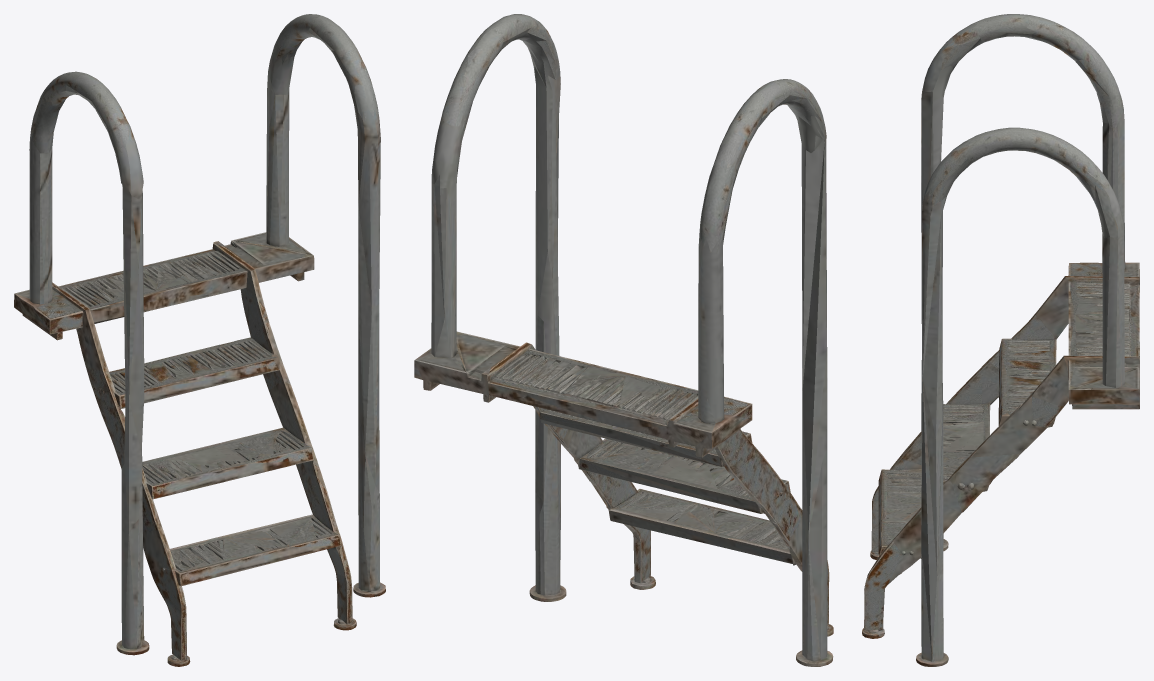
The model's file is scaletta_banchina.glb.
The picture shows the model from 3 angles, left to right: view 1: azimuth 30°, elevation 25°; view 2: azimuth 150°, elevation 25°; view 3: azimuth 270°, elevation 25°; orthographic projection. The views are drawn at different scales.
Parts seen in each view (by area): view 1: Mesh_0; view 2: Mesh_0; view 3: Mesh_0.
Boxes of the visible parts, x1,y1,x2,y2 form: Mesh_0: [14, 14, 385, 666]; Mesh_0: [414, 14, 833, 666]; Mesh_0: [862, 14, 1139, 666].
Size of the model in its own units: 0.7971 by 1.55 by 0.734.
1 material, 1 textured.
